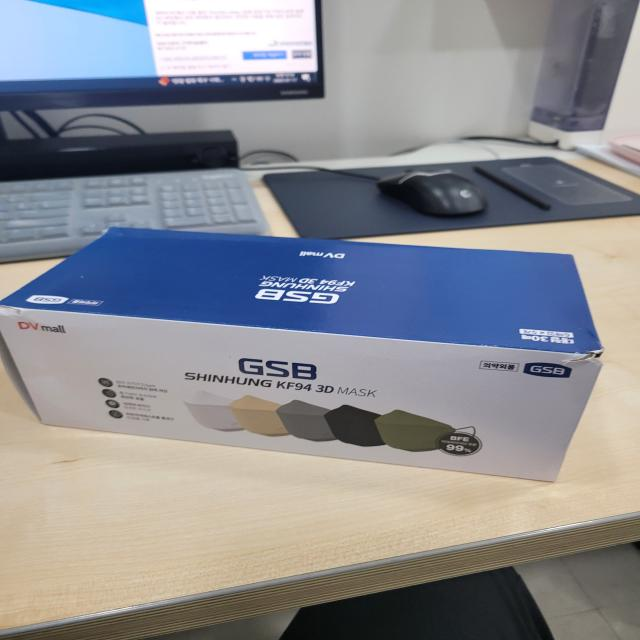mask: (0, 205, 617, 507)
